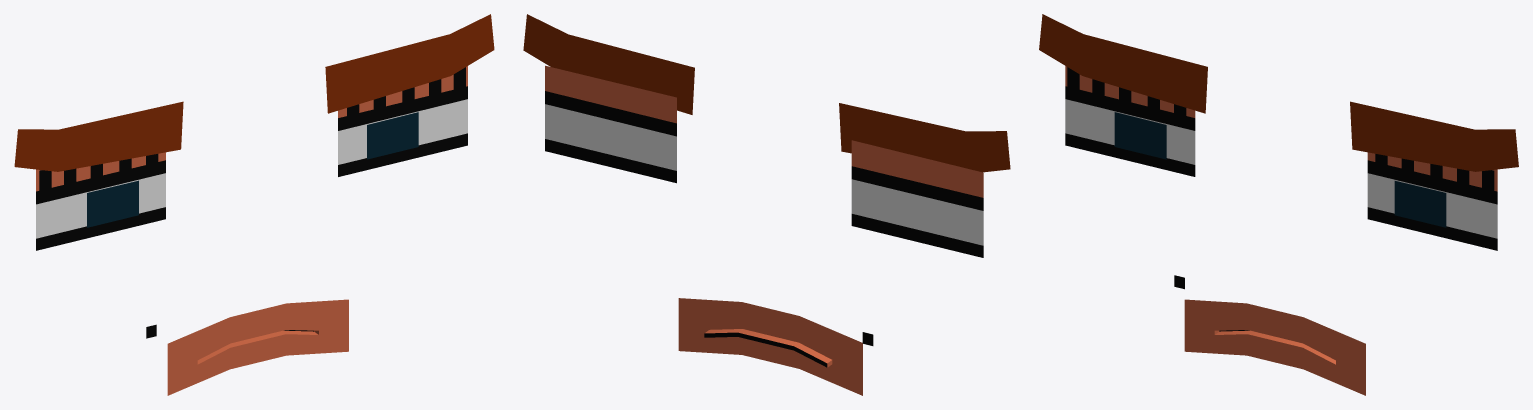
The model's file is Face Female 03.FBX.
3 views of the same model, side by side, from view 1: azimuth 30°, elevation 25°; view 2: azimuth 150°, elevation 25°; view 3: azimuth 330°, elevation 25° (orthographic).
Visible parts, largest first — view 1: Face Female 03; view 2: Face Female 03; view 3: Face Female 03.
Part boxes in pixels (x1,y1,x2,y2): Face Female 03: [14, 14, 494, 395]; Face Female 03: [523, 14, 1010, 395]; Face Female 03: [1039, 14, 1518, 395].
Bounding box in the file's own units: 44.02 × 26.24 × 1.01.
1 material, 1 textured.
